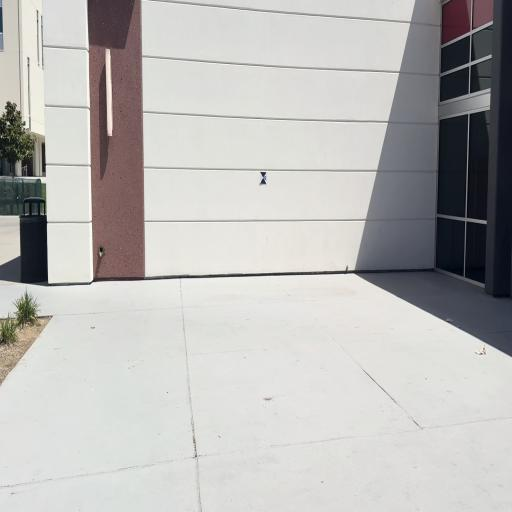target0: (260, 171, 266, 184)
